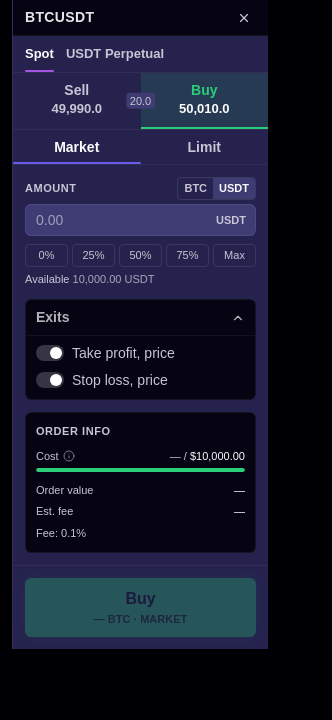
it: Section 14.4 — Bybit size rules in the form (rules loaded) › should stop a spot order worth under 5 USDT before sending it (14.4.3)
The image size is (332, 720).
Click the tab "Limit". click: [204, 147]
box: 140,130 -> 268,164
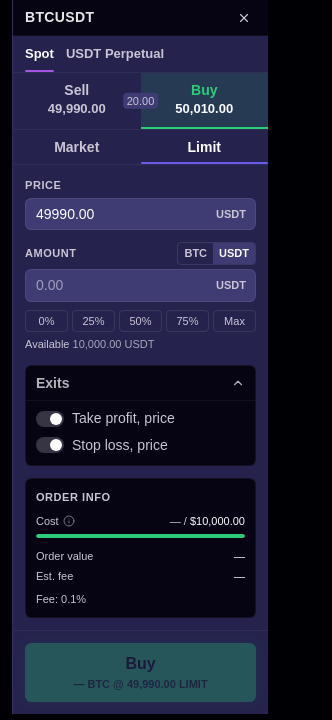
Click the tab "Market". click: [77, 147]
box: 13,130 -> 140,164
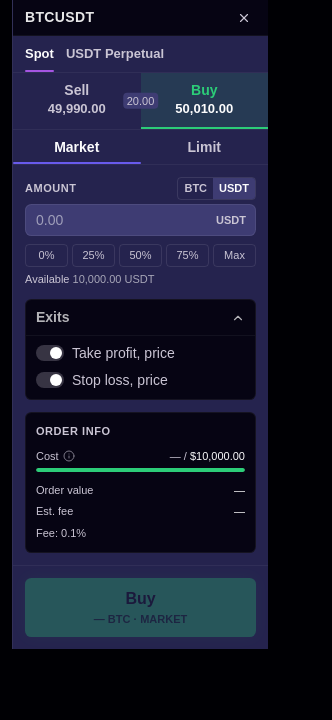
Type "4" into the number field with placeholder "0.00". click: [140, 220]
box: 25,204 -> 256,236
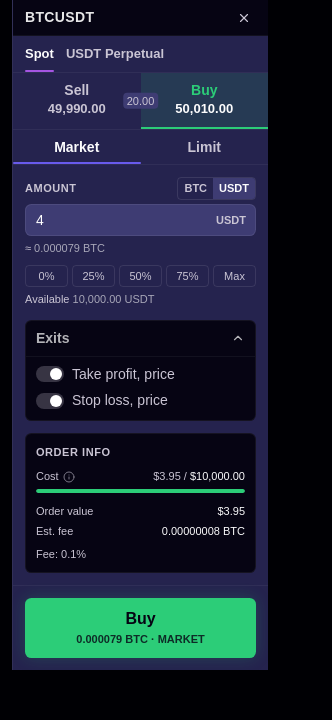
Click the button "Buy 0.000079 BTC · MARKET". click: [140, 628]
box: 25,598 -> 256,658
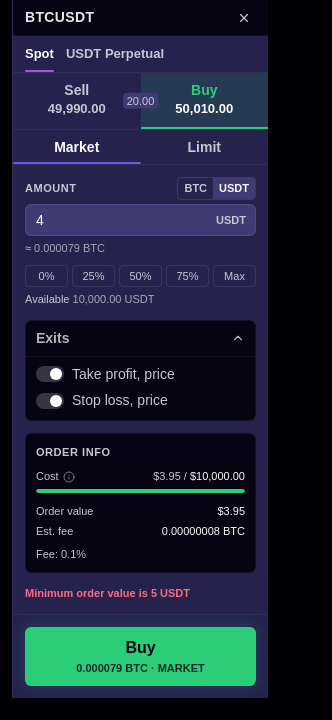
expect the text "Minimum order value is 5 USDT" is shown: met, box 25,587 -> 190,599
